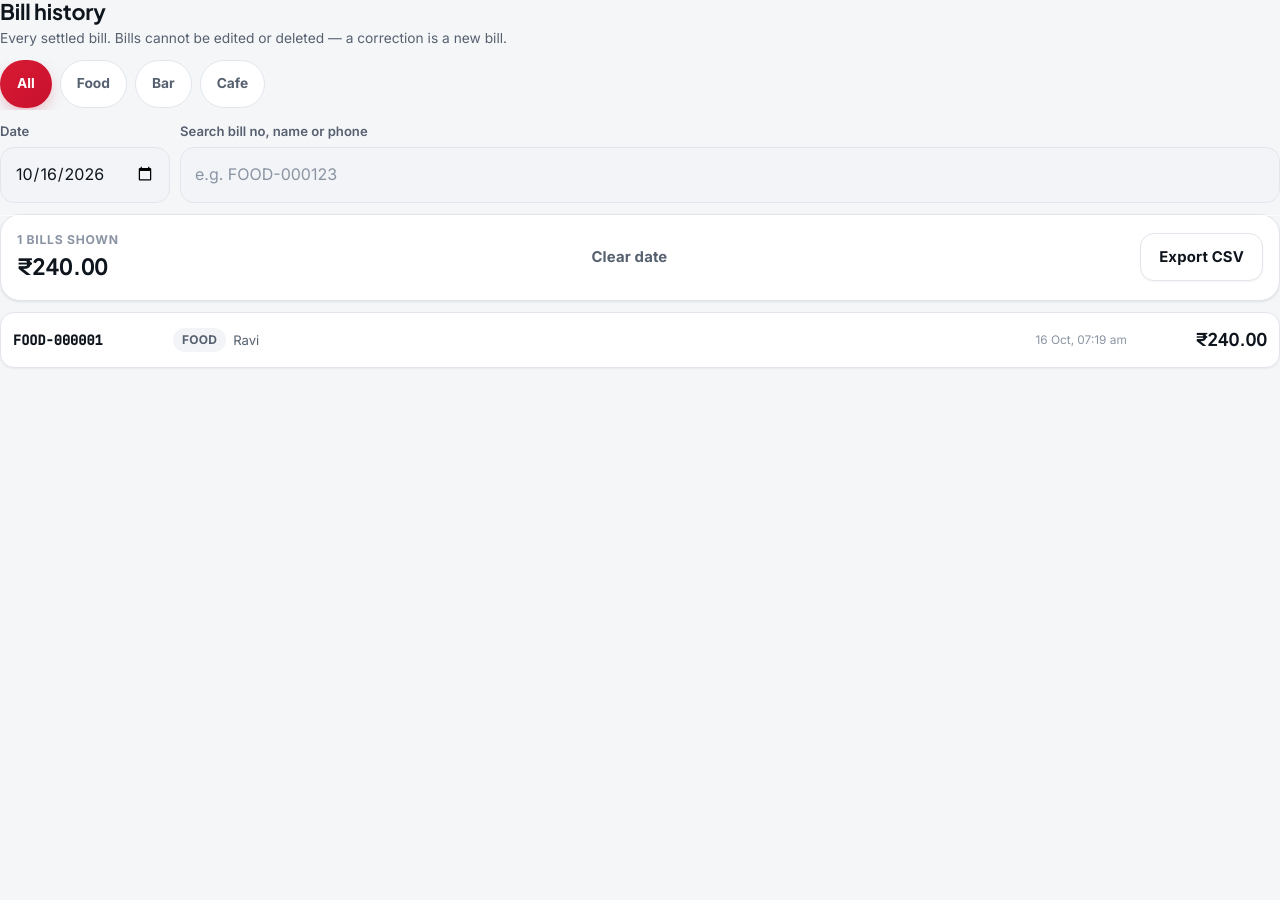
Test case: bill history › lists bills and opens one
The image size is (1280, 900).
Click the text "FOOD-000001".
click(58, 340)  # box [13, 330, 103, 348]
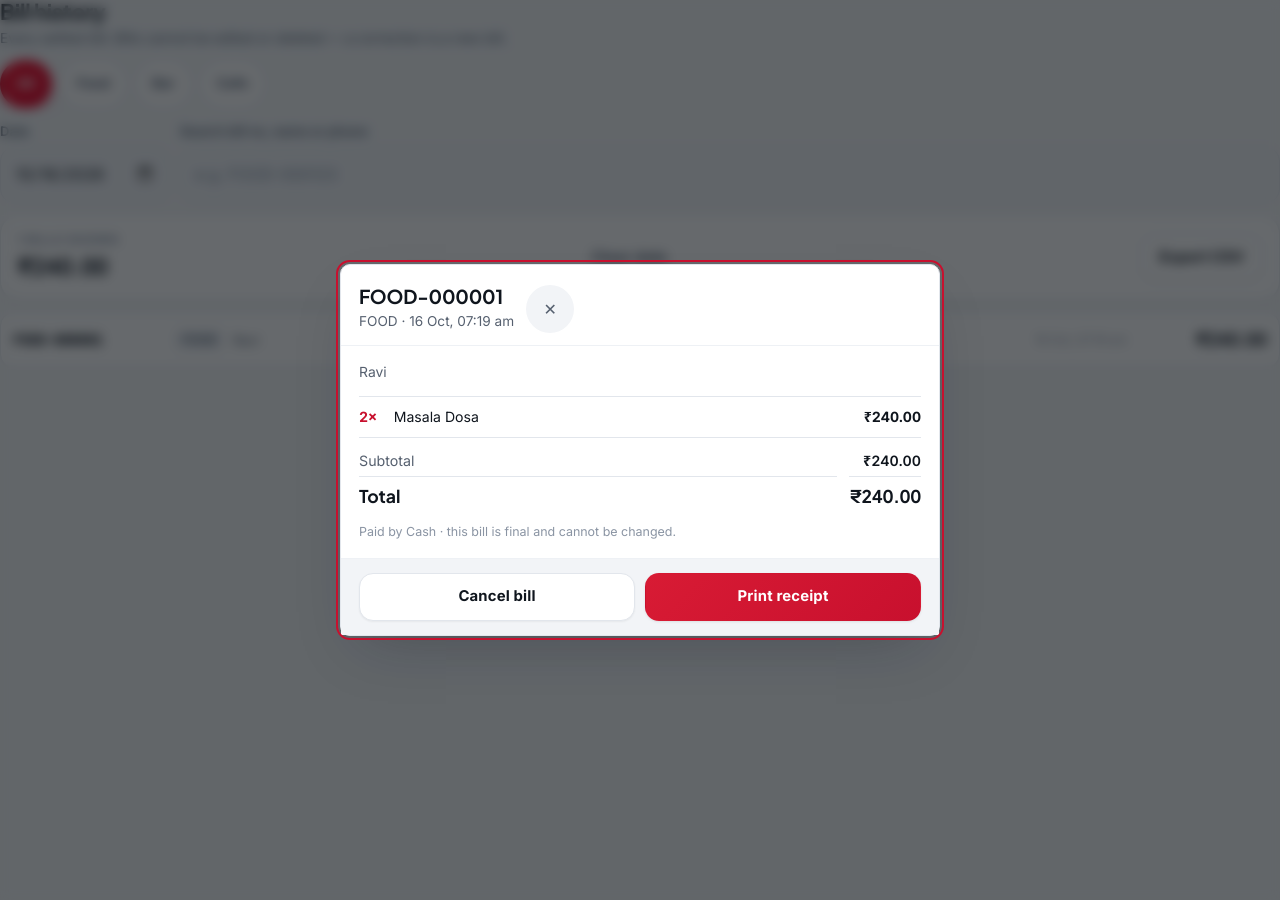
Result: the text "Masala Dosa" is shown at [394, 408, 479, 425]
Result: the text "Paid by Cash · this bill is final and cannot be changed." is shown at [359, 524, 676, 539]
